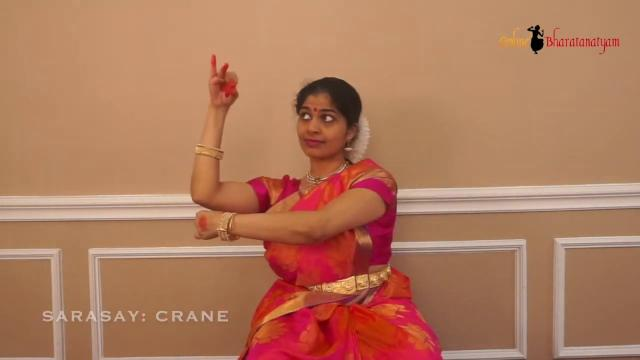bhramara: (194, 47, 250, 109)
